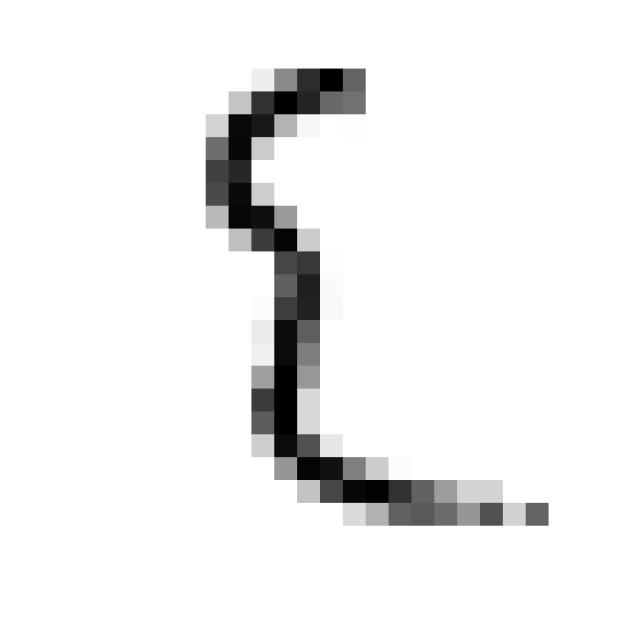4 -four-: (185, 39, 569, 551)
